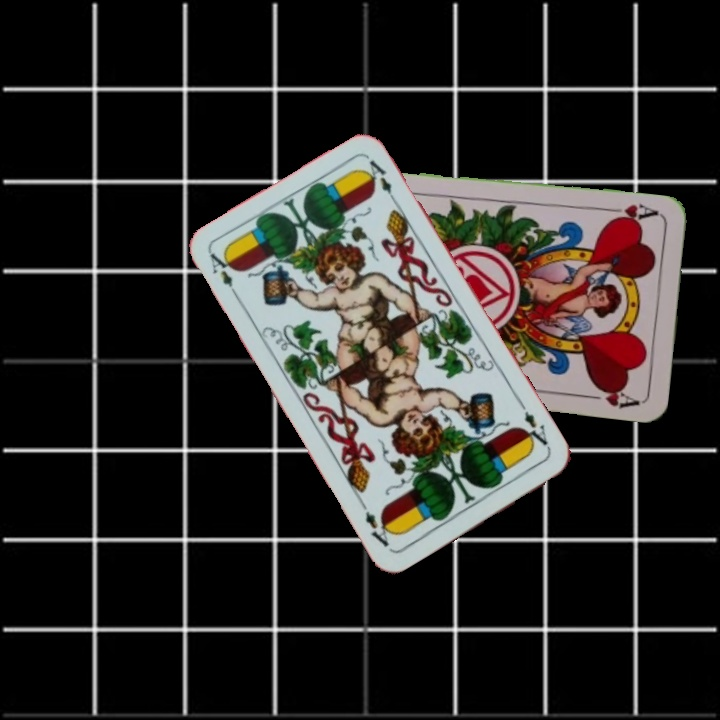EA: (516, 400, 554, 454), (206, 248, 242, 302)
HA: (604, 199, 663, 227)
